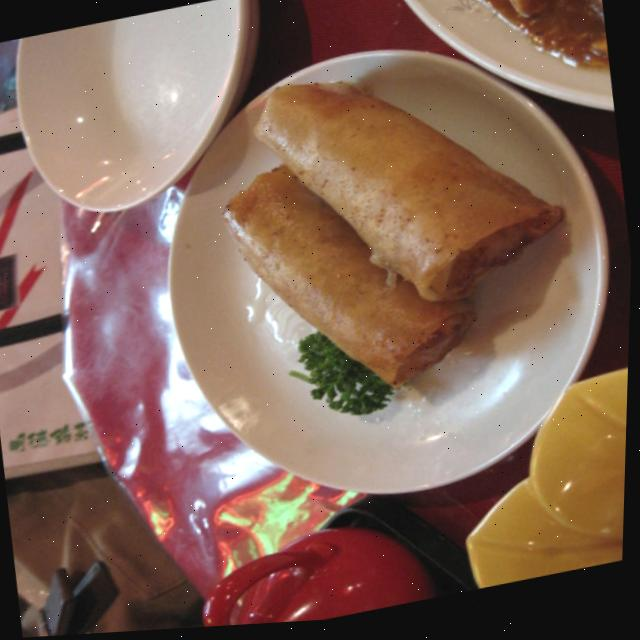鸡蛋料理: (138, 34, 571, 477)
